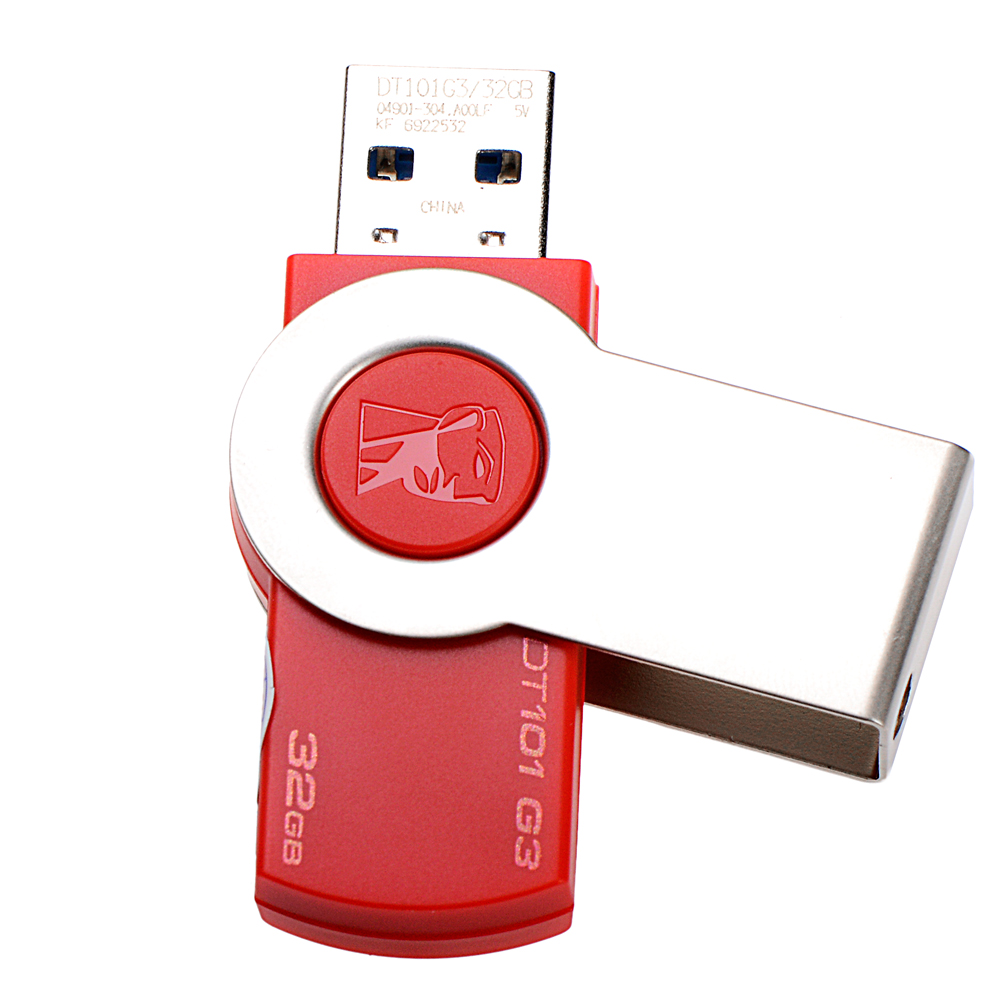Kingston: (344, 374, 509, 517)
